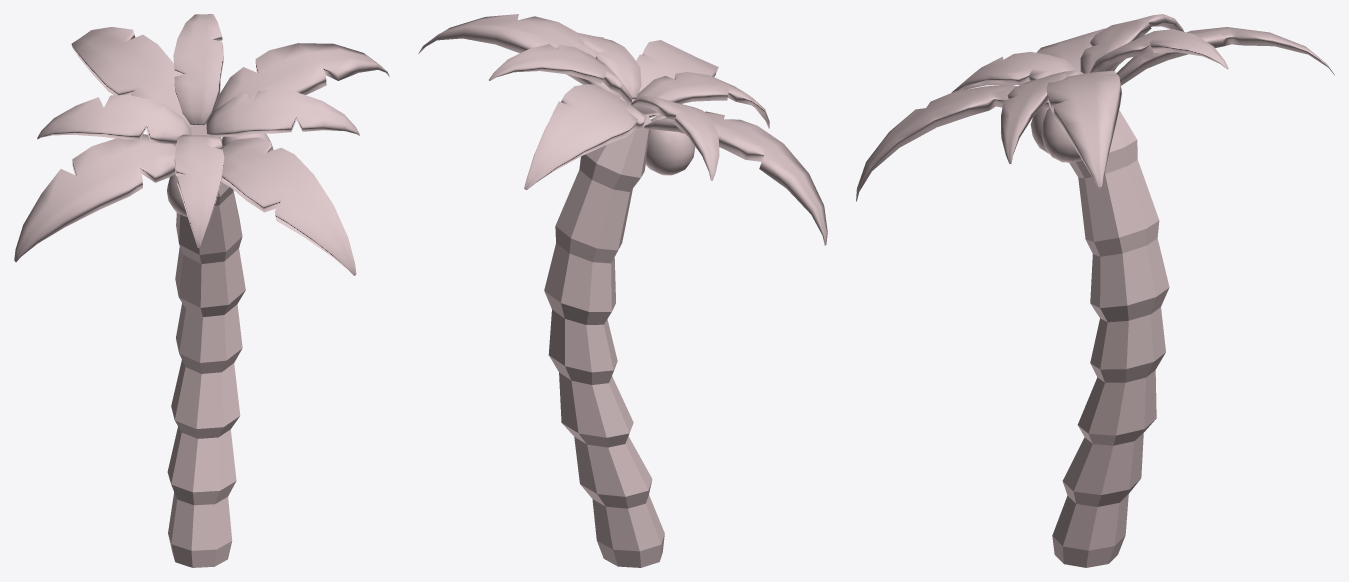
File: PalmTree.fbx
The picture shows the model from 3 angles, left to right: view 1: azimuth 30°, elevation 25°; view 2: azimuth 150°, elevation 25°; view 3: azimuth 270°, elevation 25°; orthographic projection. The views are drawn at different scales.
Parts seen in each view (by area): view 1: palmTree; view 2: palmTree; view 3: palmTree.
Part boxes in pixels (<box>): palmTree: <box>14,14,389,567</box>; palmTree: <box>418,14,827,567</box>; palmTree: <box>856,14,1334,567</box>.
Bounding box in the file's own units: 1614 × 2003 × 1607.
